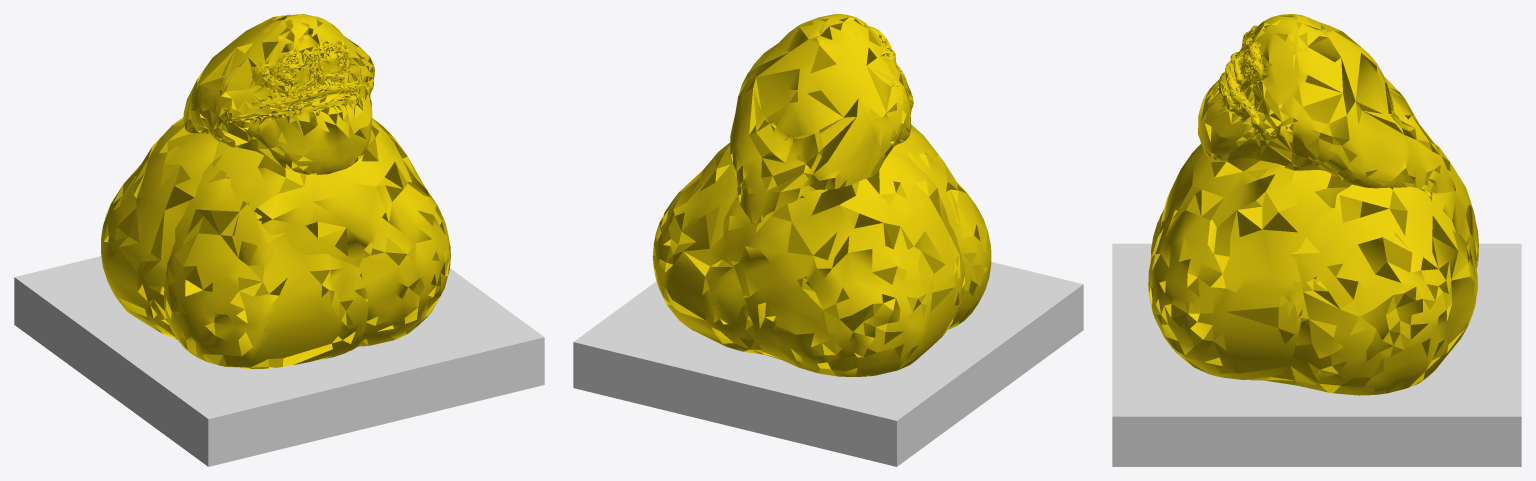
Rendered from Green_character.fbx.
3 renders of one model, left to right at view 1: azimuth 30°, elevation 25°; view 2: azimuth 150°, elevation 25°; view 3: azimuth 270°, elevation 25°, orthographic. The views are drawn at different scales.
Parts seen in each view (by area): view 1: Zeleni, Cube; view 2: Zeleni, Cube; view 3: Zeleni, Cube.
Boxes of the visible parts, bbox=[...] form: Zeleni: bbox=[101, 14, 450, 369]; Cube: bbox=[14, 256, 544, 466]; Zeleni: bbox=[652, 14, 991, 376]; Cube: bbox=[573, 262, 1083, 466]; Zeleni: bbox=[1148, 14, 1478, 395]; Cube: bbox=[1112, 243, 1521, 466].
Bounding box in the file's own units: 824 × 807 × 824.
